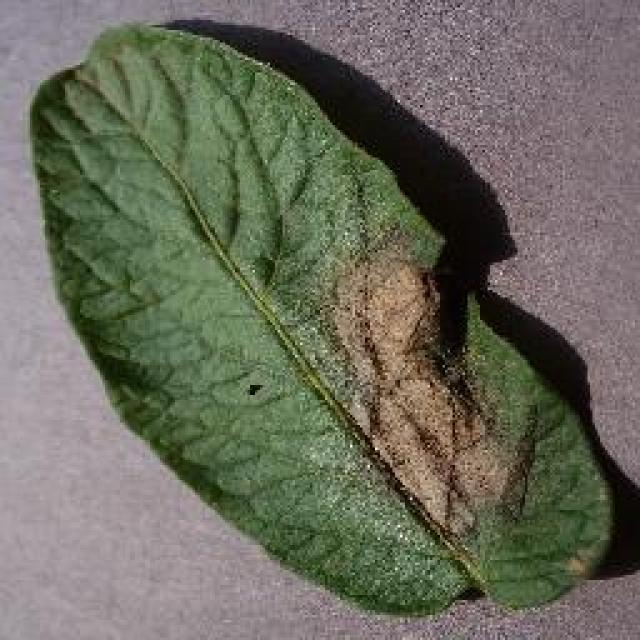Potato___Late_blight: (234, 167, 639, 594)
